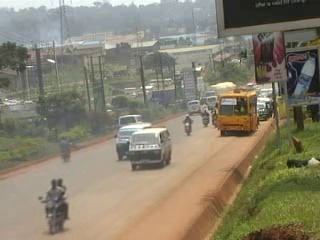Motorcycle: (36, 172, 72, 235), (57, 133, 74, 164), (181, 112, 193, 137), (199, 106, 211, 128), (210, 106, 219, 128)
